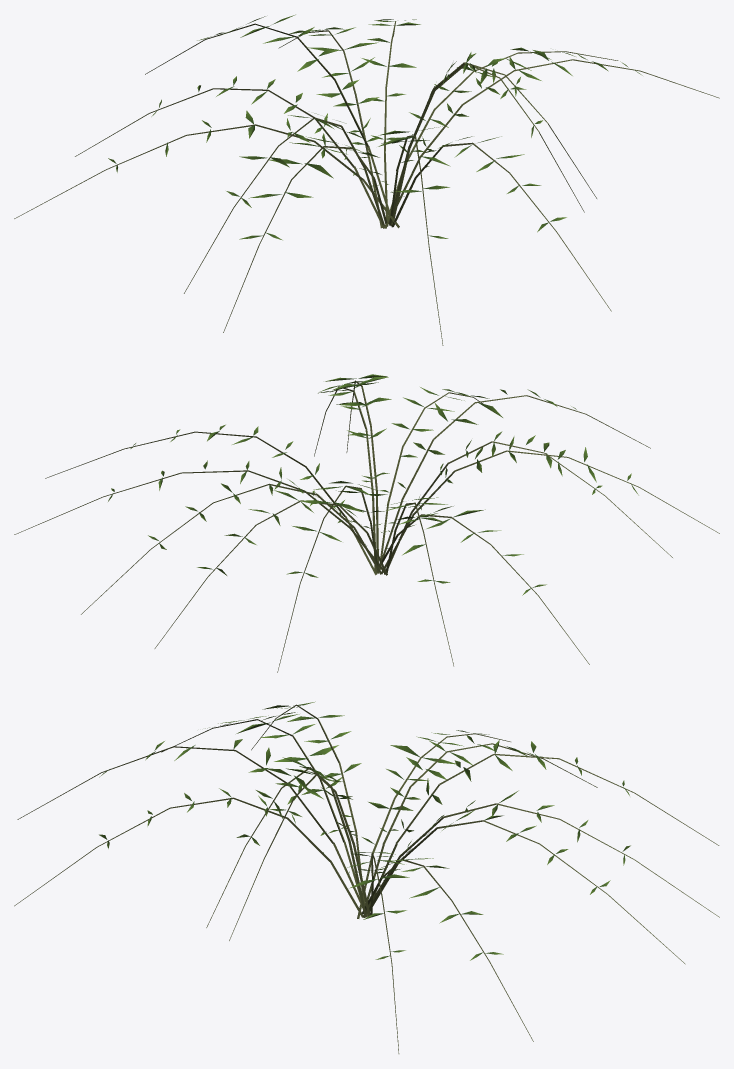
The model's file is forest_fern_002_b_LOD3.gltf.
The picture shows the model from 3 angles, top to bottom: view 1: azimuth 30°, elevation 25°; view 2: azimuth 150°, elevation 25°; view 3: azimuth 270°, elevation 25°; orthographic projection. The views are drawn at different scales.
Parts seen in each view (by area): view 1: forest_fern_002_b_LOD3; view 2: forest_fern_002_b_LOD3; view 3: forest_fern_002_b_LOD3.
Part boxes in pixels (left/top/right/bottom): forest_fern_002_b_LOD3: left=14, top=14, right=719, bottom=345; forest_fern_002_b_LOD3: left=14, top=374, right=719, bottom=672; forest_fern_002_b_LOD3: left=14, top=701, right=719, bottom=1053.
Bounding box in the file's own units: 5.14 × 1.34 × 4.86.
1 material, 1 textured.
